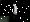person: (13, 4, 19, 17)
